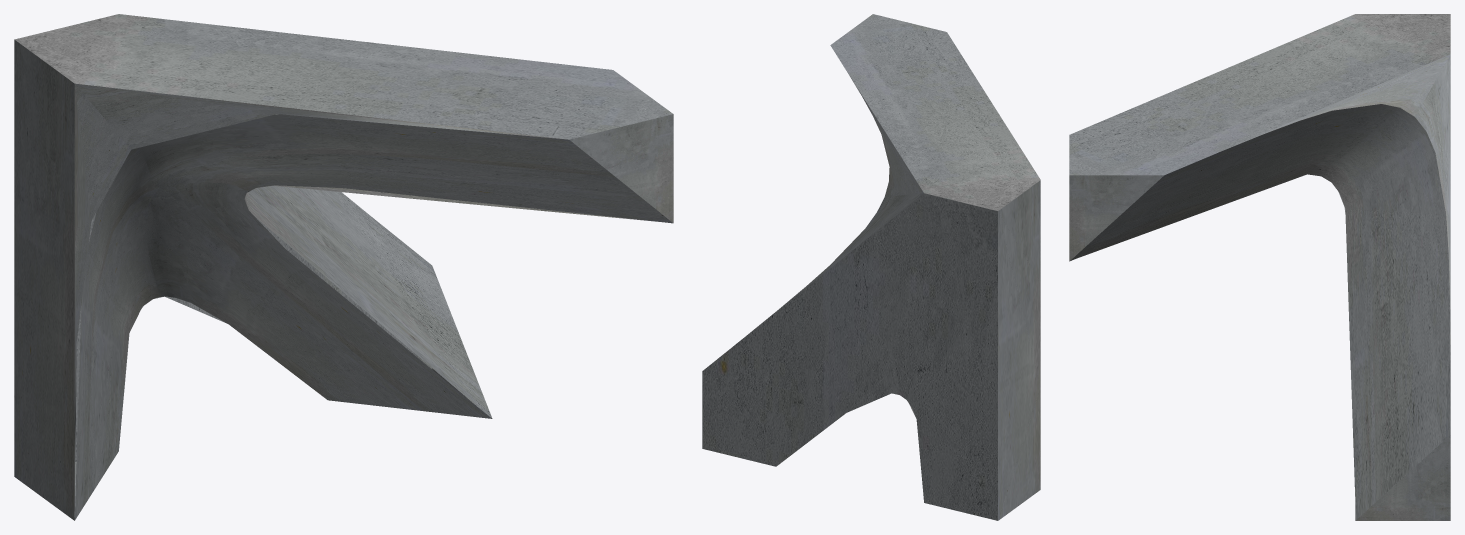
File: module_M2.fbx
3 renders of one model, left to right at view 1: azimuth 30°, elevation 25°; view 2: azimuth 150°, elevation 25°; view 3: azimuth 270°, elevation 25°, orthographic. The views are drawn at different scales.
Visible parts, largest first — view 1: modules; view 2: modules; view 3: modules.
Boxes of the visible parts, bbox=[...] form: modules: bbox=[14, 14, 673, 520]; modules: bbox=[702, 14, 1040, 520]; modules: bbox=[1069, 14, 1450, 520].
Bounding box in the file's own units: 1000 × 1000 × 1000.
1 material, 1 textured.
